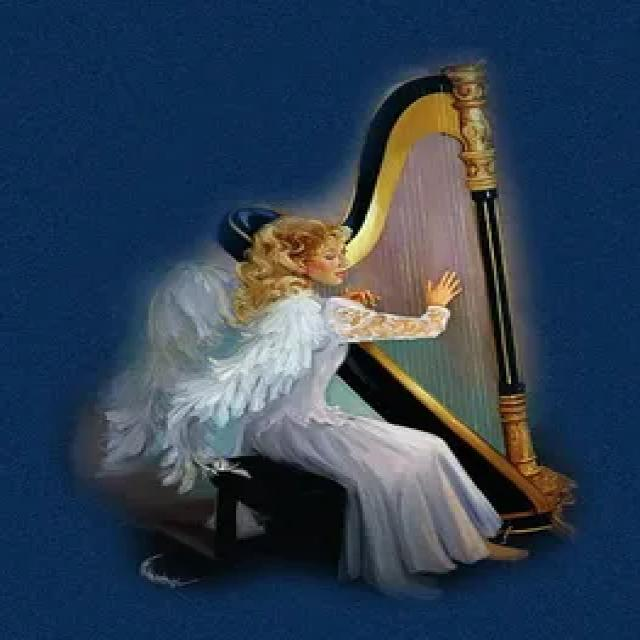angel: (68, 40, 580, 606)
